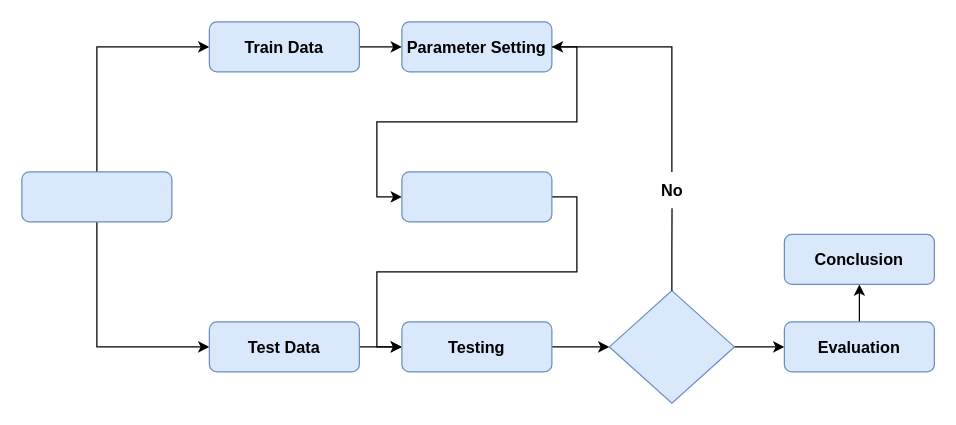
This 956x425 diagram has some shape labels left out. The shapes that lost their labels are listed below. From the top down, each one's centre as x and y in pixels, then its label:
At (96,196): "Dataset".
At (476,196): "CNN Model".
At (671,346): "Max Iteration == 70".
